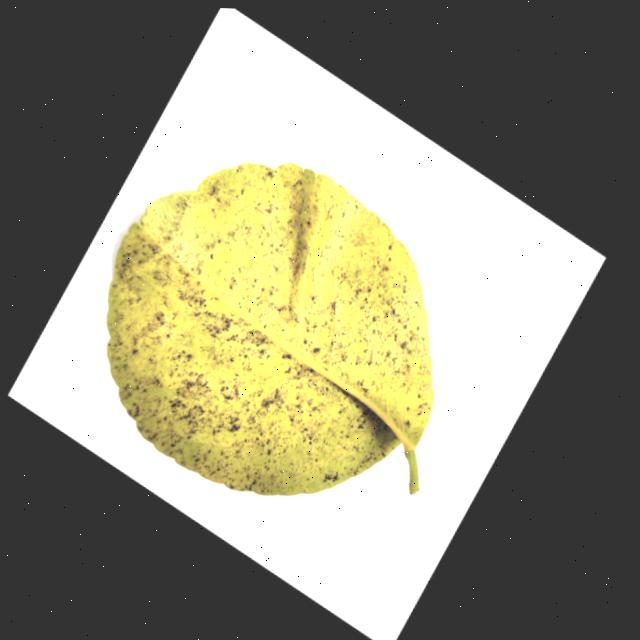melanose: (106, 163, 432, 494)
